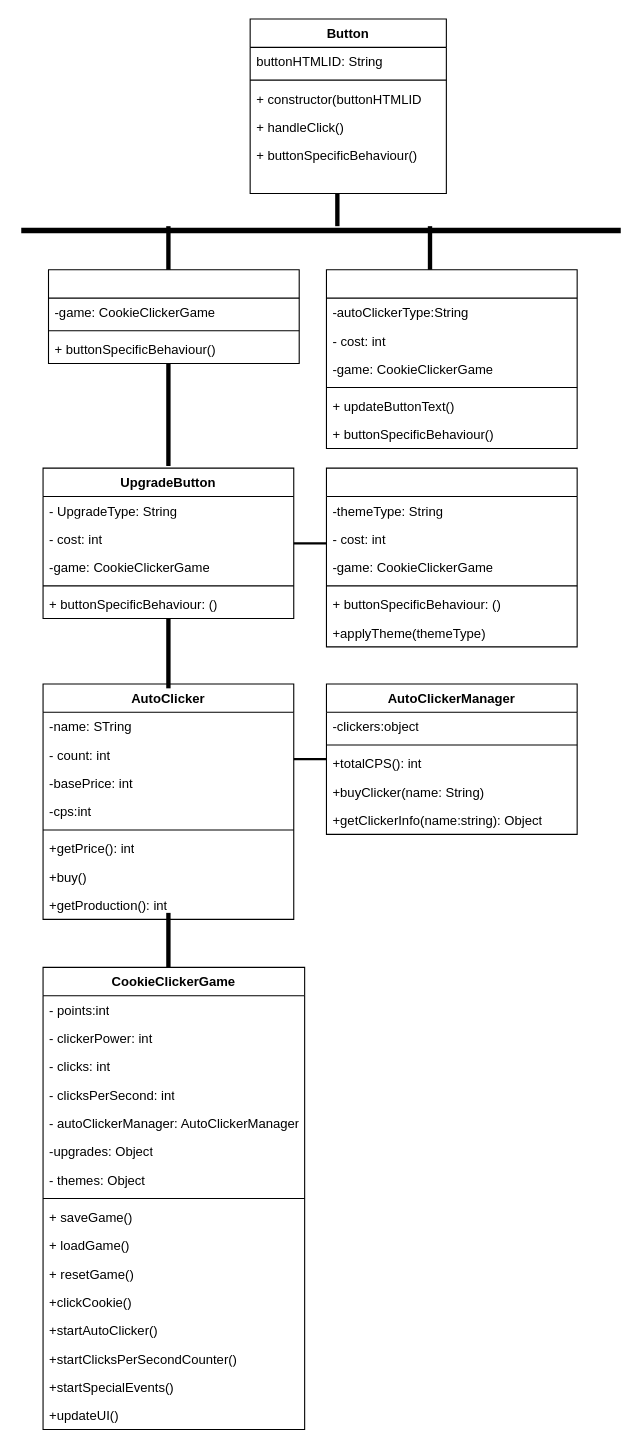
The diagram is 642 pixels wide and 1452 high, and some of its shapes have lost their labels. Each missing label, with the box of its shape:
AutoClickerButton: (325, 269, 577, 449)
Incr1Button: (47, 269, 299, 364)
ThemesButton: (325, 467, 577, 647)
